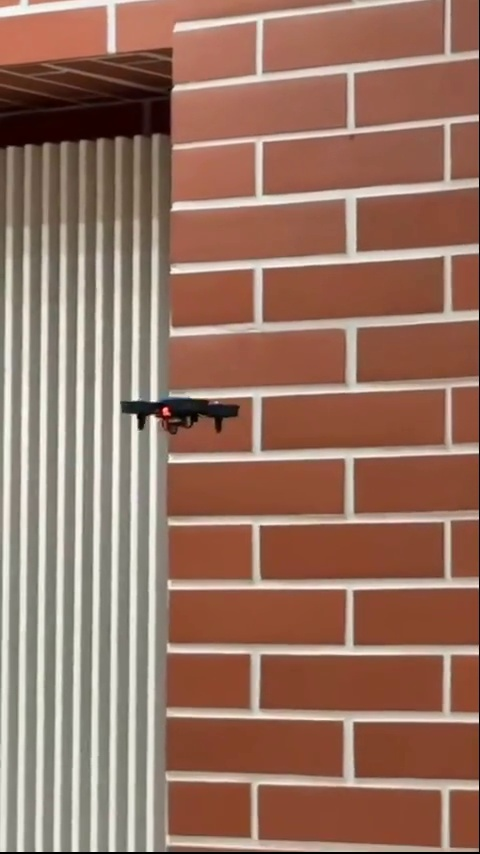drone: (119, 393, 255, 437)
